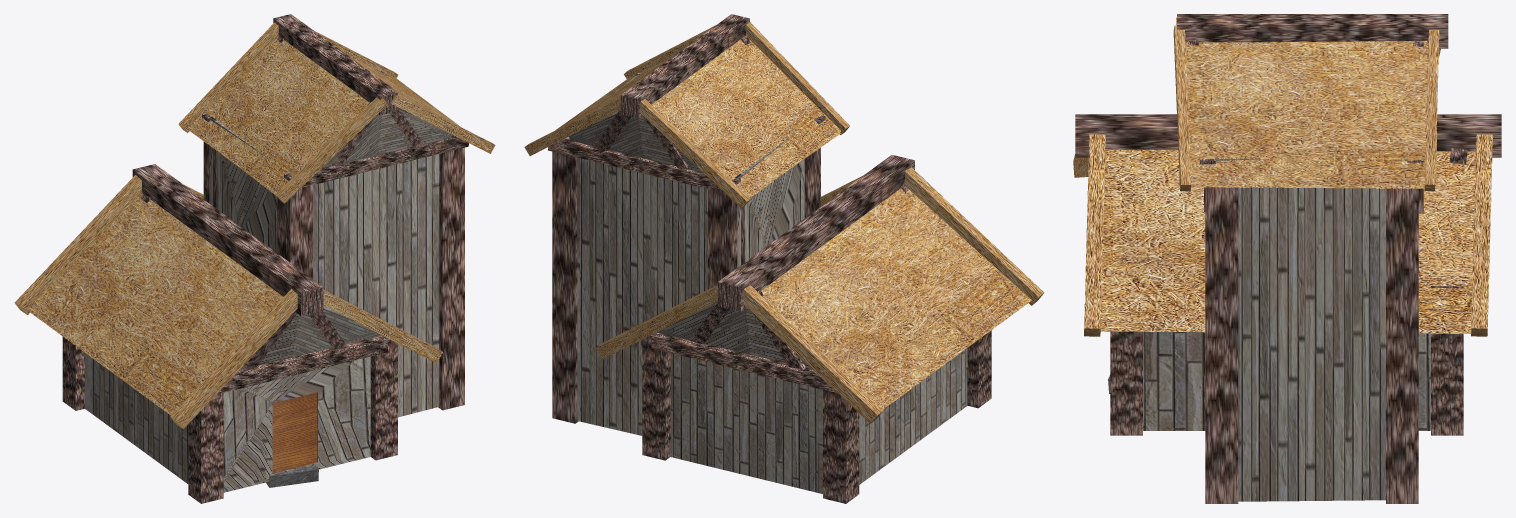
File: house3.glb
3 renders of one model, left to right at view 1: azimuth 30°, elevation 25°; view 2: azimuth 150°, elevation 25°; view 3: azimuth 270°, elevation 25°, orthographic. The views are drawn at different scales.
Visible parts, largest first — view 1: Plane.012, Cube.040, Cube.039, Plane.020, Cube.034, Cube.056, Cube.045, Cube.037, Cube.030, Cube.021, Cube.038, Cube.026 (+15 smaller); view 2: Plane.012, Cube.040, Cube.039, Plane.020, Cube.034, Cube.054, Cube.045, Cube.036, Cube.031, Cube.035, Plane.009, Cube.027 (+15 smaller); view 3: Cube.040, Plane.021, Plane.011, Cube.056, Cube.054, Cube.039, Cube.045, Cube.034, Cube.033, Cube.032, Cube.035, Cube.038 (+3 smaller).
Boxes of the visible parts, <box> form: Plane.012: <box>27,193,283,415</box>; Cube.040: <box>209,108,441,417</box>; Cube.039: <box>85,353,370,492</box>; Plane.020: <box>187,36,369,193</box>; Cube.034: <box>132,164,323,315</box>; Cube.056: <box>438,147,464,410</box>; Cube.045: <box>273,14,398,115</box>; Cube.037: <box>188,393,223,503</box>; Cube.030: <box>170,289,297,428</box>; Cube.021: <box>272,392,316,473</box>; Cube.038: <box>370,335,397,460</box>; Cube.026: <box>216,335,388,394</box>; Plane.012: <box>761,188,1031,409</box>; Cube.040: <box>564,76,804,435</box>; Cube.039: <box>670,348,967,493</box>; Plane.020: <box>651,36,841,197</box>; Cube.034: <box>717,155,914,311</box>; Cube.054: <box>552,151,578,423</box>; Cube.045: <box>620,14,749,118</box>; Cube.036: <box>823,390,859,503</box>; Cube.031: <box>743,285,883,423</box>; Cube.035: <box>642,332,670,460</box>; Plane.009: <box>657,301,812,369</box>; Cube.027: <box>651,332,837,393</box>; Cube.040: <box>1214,158,1385,501</box>; Plane.021: <box>1185,41,1430,187</box>; Plane.011: <box>1100,149,1475,333</box>; Cube.056: <box>1205,187,1238,503</box>; Cube.054: <box>1386,188,1418,503</box>; Cube.039: <box>1143,331,1430,430</box>; Cube.045: <box>1177,14,1448,48</box>; Cube.034: <box>1075,114,1501,157</box>; Cube.033: <box>1084,134,1105,336</box>; Cube.032: <box>1471,134,1492,336</box>; Cube.035: <box>1431,286,1463,435</box>; Cube.038: <box>1110,331,1142,435</box>.
Bounding box in the file's own units: 32.25 × 29.25 × 26.12.
Materials: 52 (52 with a texture image).
